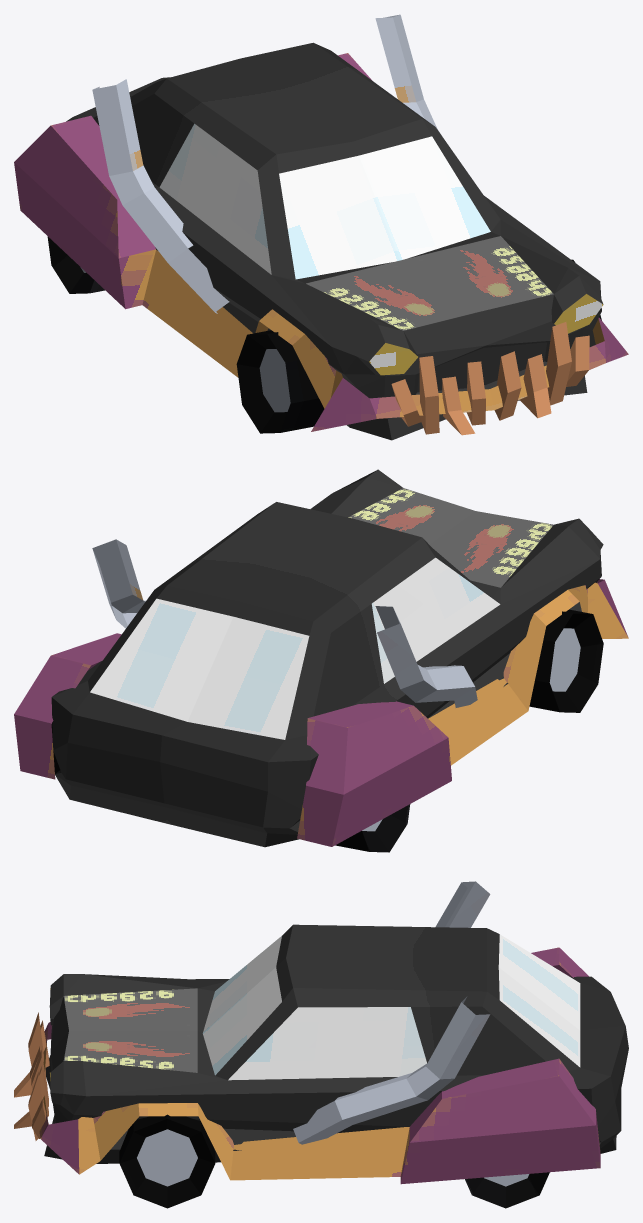
File: car02.gltf
3 renders of one model, top to bottom at view 1: azimuth 30°, elevation 25°; view 2: azimuth 150°, elevation 25°; view 3: azimuth 270°, elevation 25°, orthographic. The views are drawn at different scales.
Parts seen in each view (by area): view 1: Cube.001; view 2: Cube.001; view 3: Cube.001.
Boxes of the visible parts, x1,y1,x2,y2 form: Cube.001: (14, 14, 628, 440); Cube.001: (14, 469, 628, 852); Cube.001: (14, 881, 628, 1208).
Size of the model in its own units: 3.22 by 2.1 by 5.86.
Materials: 1 (1 with a texture image).
